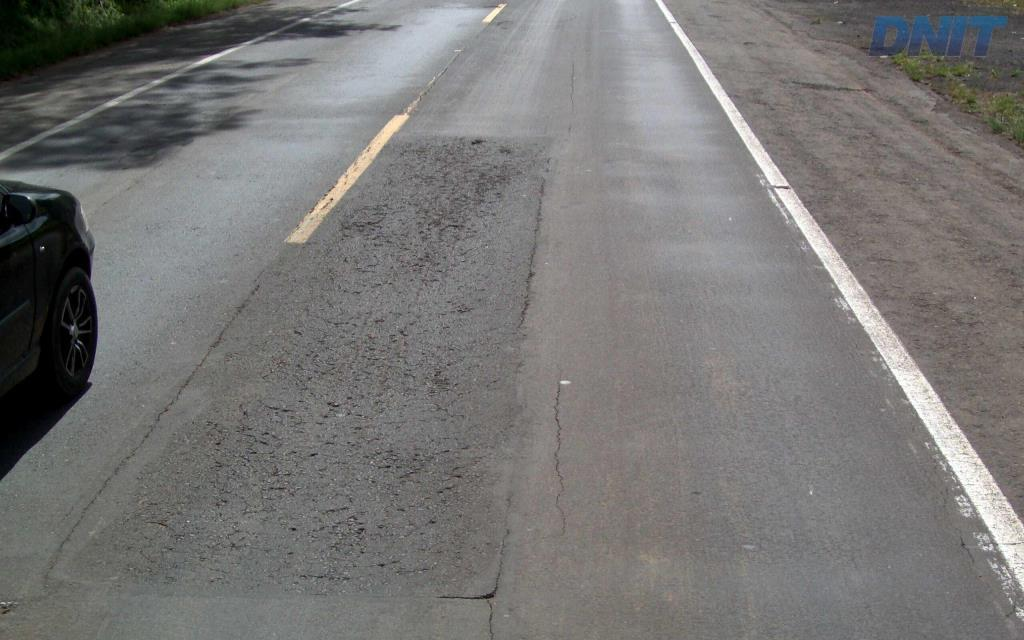crack: (371, 449, 449, 512), (234, 403, 272, 470), (511, 242, 537, 335), (190, 458, 232, 509), (141, 511, 204, 544), (327, 514, 367, 561), (258, 465, 304, 502), (338, 203, 392, 232), (426, 209, 470, 242), (471, 172, 506, 205), (203, 418, 231, 458), (427, 365, 458, 397)
